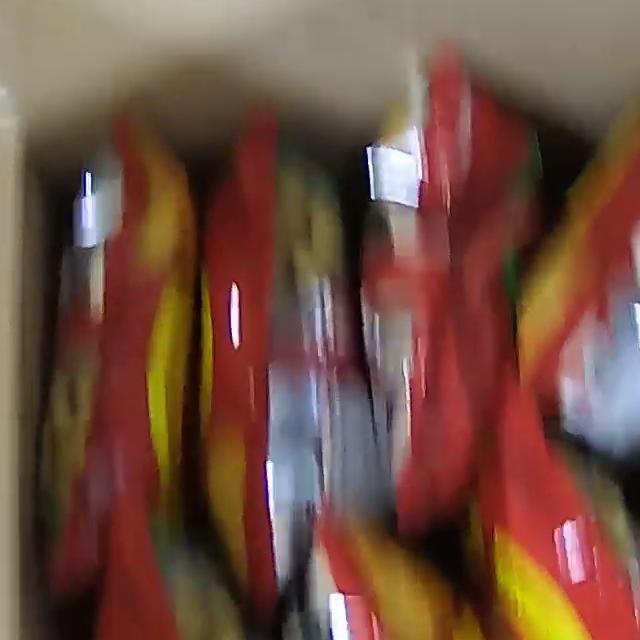masala: (34, 29, 640, 640)
